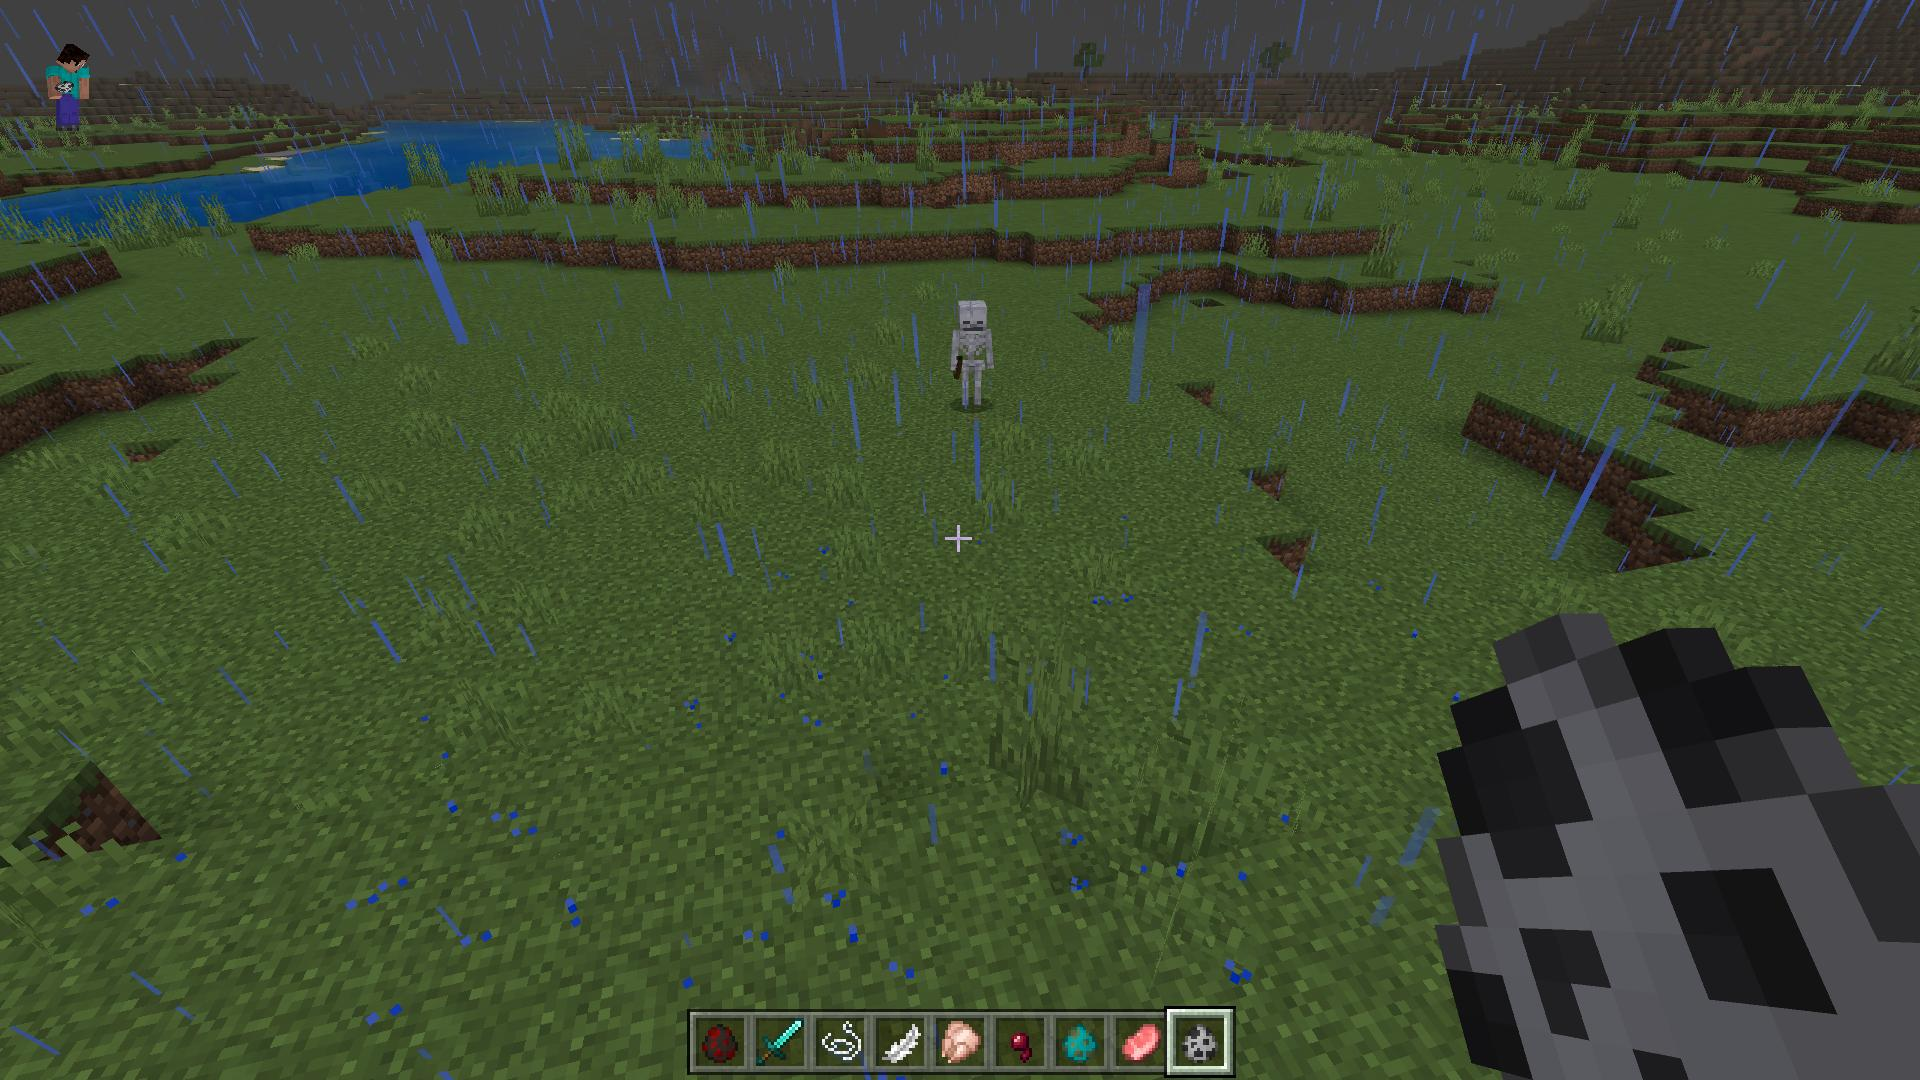skeleton: (952, 297, 996, 405)
